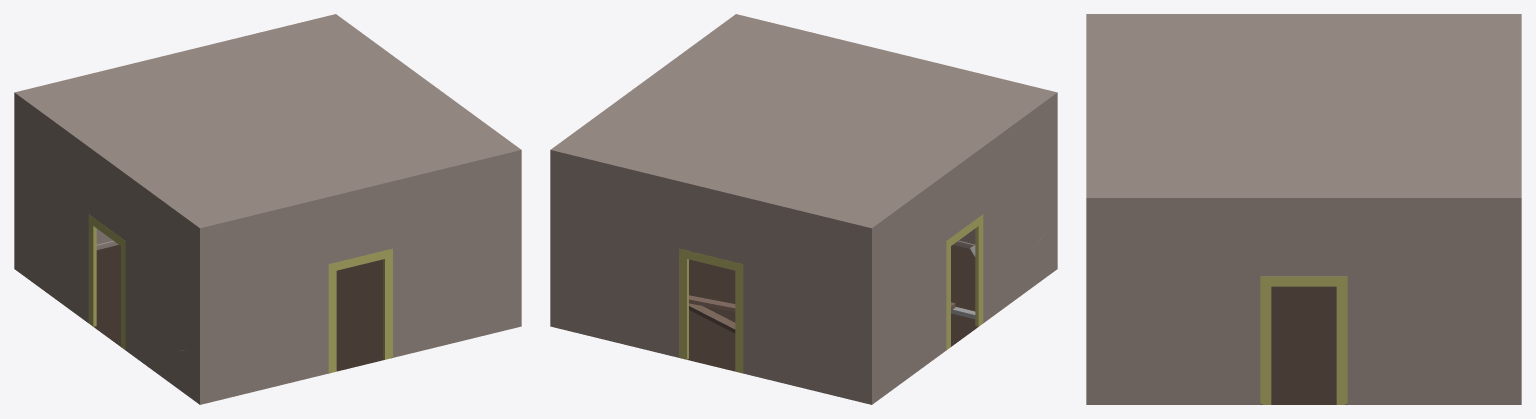
File: Room05_BasementLanding.fbx
The picture shows the model from 3 angles, left to right: view 1: azimuth 30°, elevation 25°; view 2: azimuth 150°, elevation 25°; view 3: azimuth 270°, elevation 25°; orthographic projection. The views are drawn at different scales.
Parts seen in each view (by area): view 1: Roof, WallSlicedPosZ, WallSlicedPosX, WallSlicedPosZ8, Floor, WallSlicedPosX8, DoorFramePosZ, DoorFramePosX, WallSlicedNegX, WallSlicedNegZ; view 2: Roof, WallSlicedNegZ, WallSlicedPosX, WallSlicedNegZ30, WallSlicedPosX8, Floor, DoorFrameNegZ, DoorFramePosX, WallSlicedNegX, WallSlicedPosZ, pCube53; view 3: Roof, WallSlicedNegX, WallSlicedNegX15, Floor, DoorFrameNegX, WallSlicedPosZ, WallSlicedNegZ, WallSlicedPosX.
Part boxes in pixels (bbox=[...]): Roof: bbox=[17, 15, 518, 227]; WallSlicedPosZ: bbox=[199, 149, 521, 364]; WallSlicedPosX: bbox=[14, 92, 201, 364]; WallSlicedPosZ8: bbox=[198, 286, 521, 404]; Floor: bbox=[89, 245, 392, 373]; WallSlicedPosX8: bbox=[14, 229, 202, 404]; DoorFramePosZ: bbox=[328, 248, 392, 372]; DoorFramePosX: bbox=[88, 214, 125, 349]; WallSlicedNegX: bbox=[335, 14, 521, 286]; WallSlicedNegZ: bbox=[14, 14, 335, 228]; Roof: bbox=[553, 15, 1054, 227]; WallSlicedNegZ: bbox=[550, 149, 872, 364]; WallSlicedPosX: bbox=[870, 92, 1056, 364]; WallSlicedNegZ30: bbox=[550, 286, 873, 404]; WallSlicedPosX8: bbox=[869, 230, 1057, 404]; Floor: bbox=[679, 245, 982, 373]; DoorFrameNegZ: bbox=[679, 248, 743, 372]; DoorFramePosX: bbox=[946, 214, 983, 349]; WallSlicedNegX: bbox=[550, 14, 736, 285]; WallSlicedPosZ: bbox=[735, 14, 1057, 228]; pCube53: bbox=[689, 303, 735, 333]; Roof: bbox=[1088, 14, 1519, 197]; WallSlicedNegX: bbox=[1086, 197, 1521, 357]; WallSlicedNegX15: bbox=[1086, 357, 1521, 404]; Floor: bbox=[1260, 286, 1347, 404]; DoorFrameNegX: bbox=[1260, 276, 1347, 404]; WallSlicedPosZ: bbox=[1086, 14, 1087, 357]; WallSlicedNegZ: bbox=[1520, 14, 1521, 357]; WallSlicedPosX: bbox=[1086, 14, 1521, 14].
Size of the model in its own units: 800 by 420 by 800.
